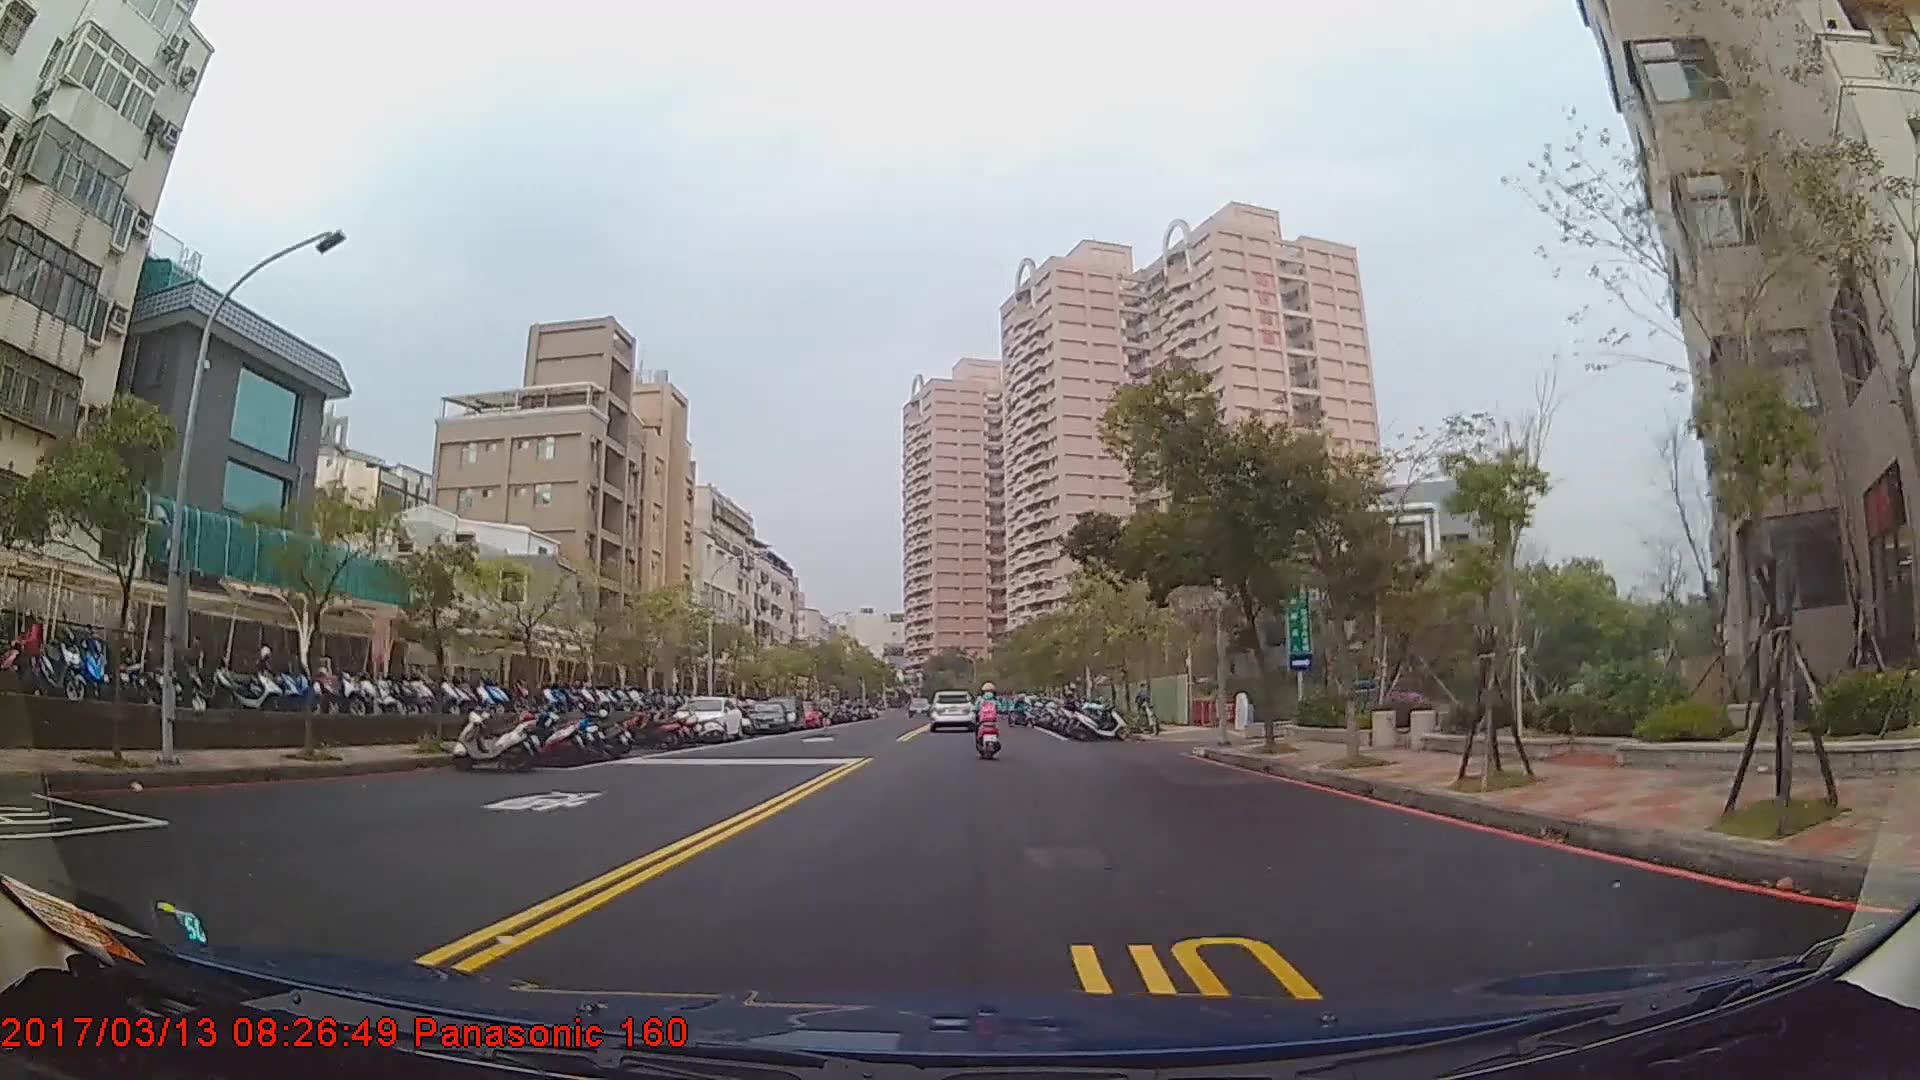pedestrian: (1135, 682, 1156, 730)
rider: (973, 681, 1004, 758)
vehicle: (671, 695, 742, 744), (926, 688, 976, 732), (741, 700, 791, 737)
